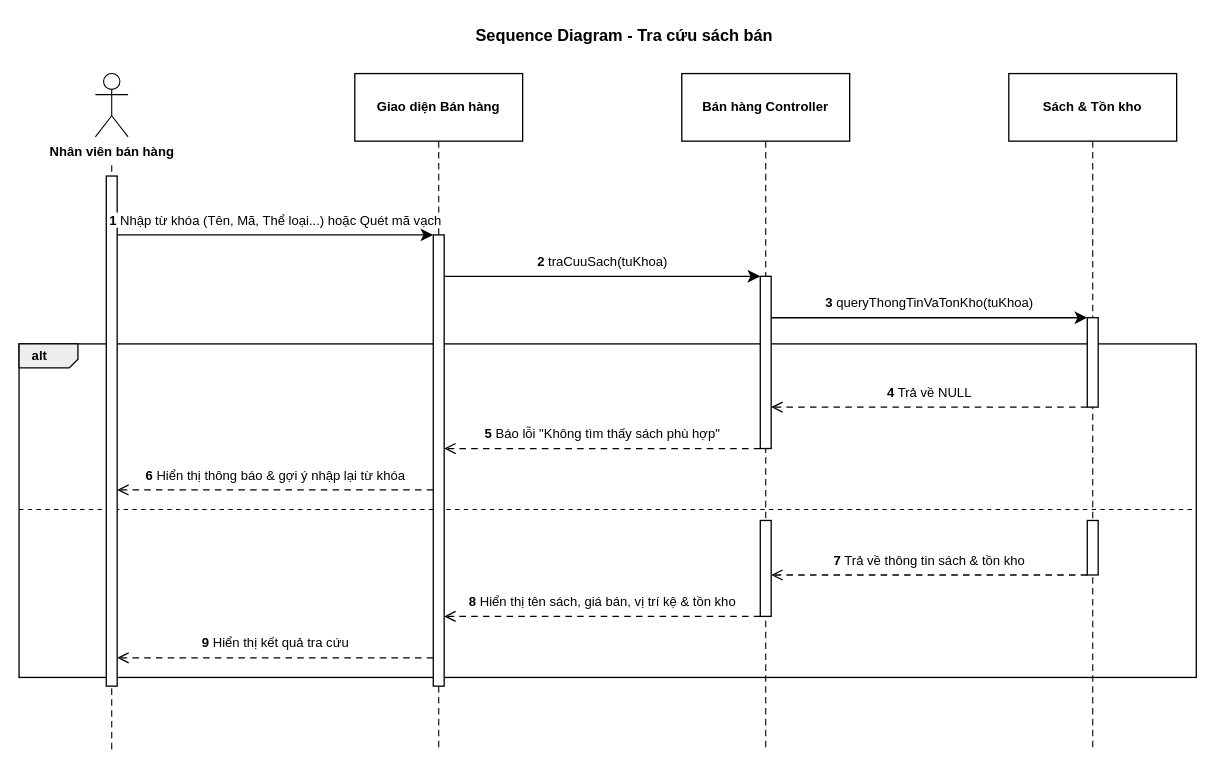
The diagram is 1218 pixels wide and 770 high, and some of its shapes have lost their labels. Each missing label, with the centre of its shape:
[Không tìm thấy sách]: point (174, 355)
[Tìm thấy sách]: point (94, 522)
